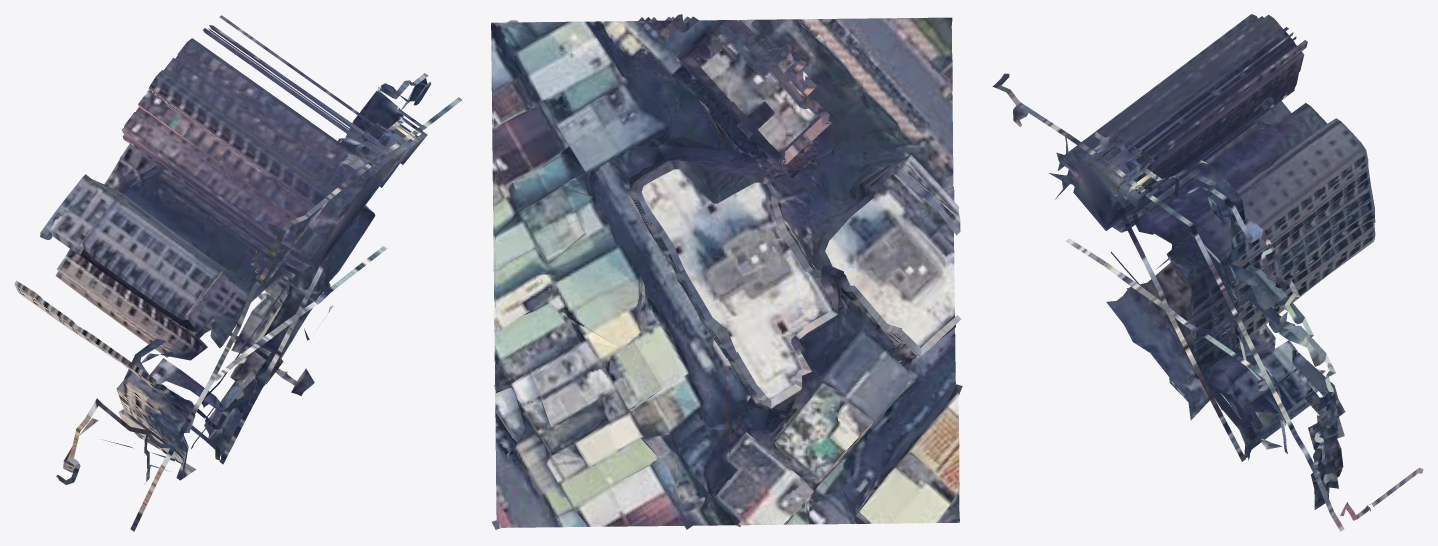
The picture shows the model from 3 angles, left to right: view 1: azimuth 30°, elevation 25°; view 2: azimuth 150°, elevation 25°; view 3: azimuth 270°, elevation 25°; orthographic projection. The views are drawn at different scales.
Size of the model in its own units: 89.66 by 88.09 by 78.21.
Materials: 2 (2 with a texture image).
